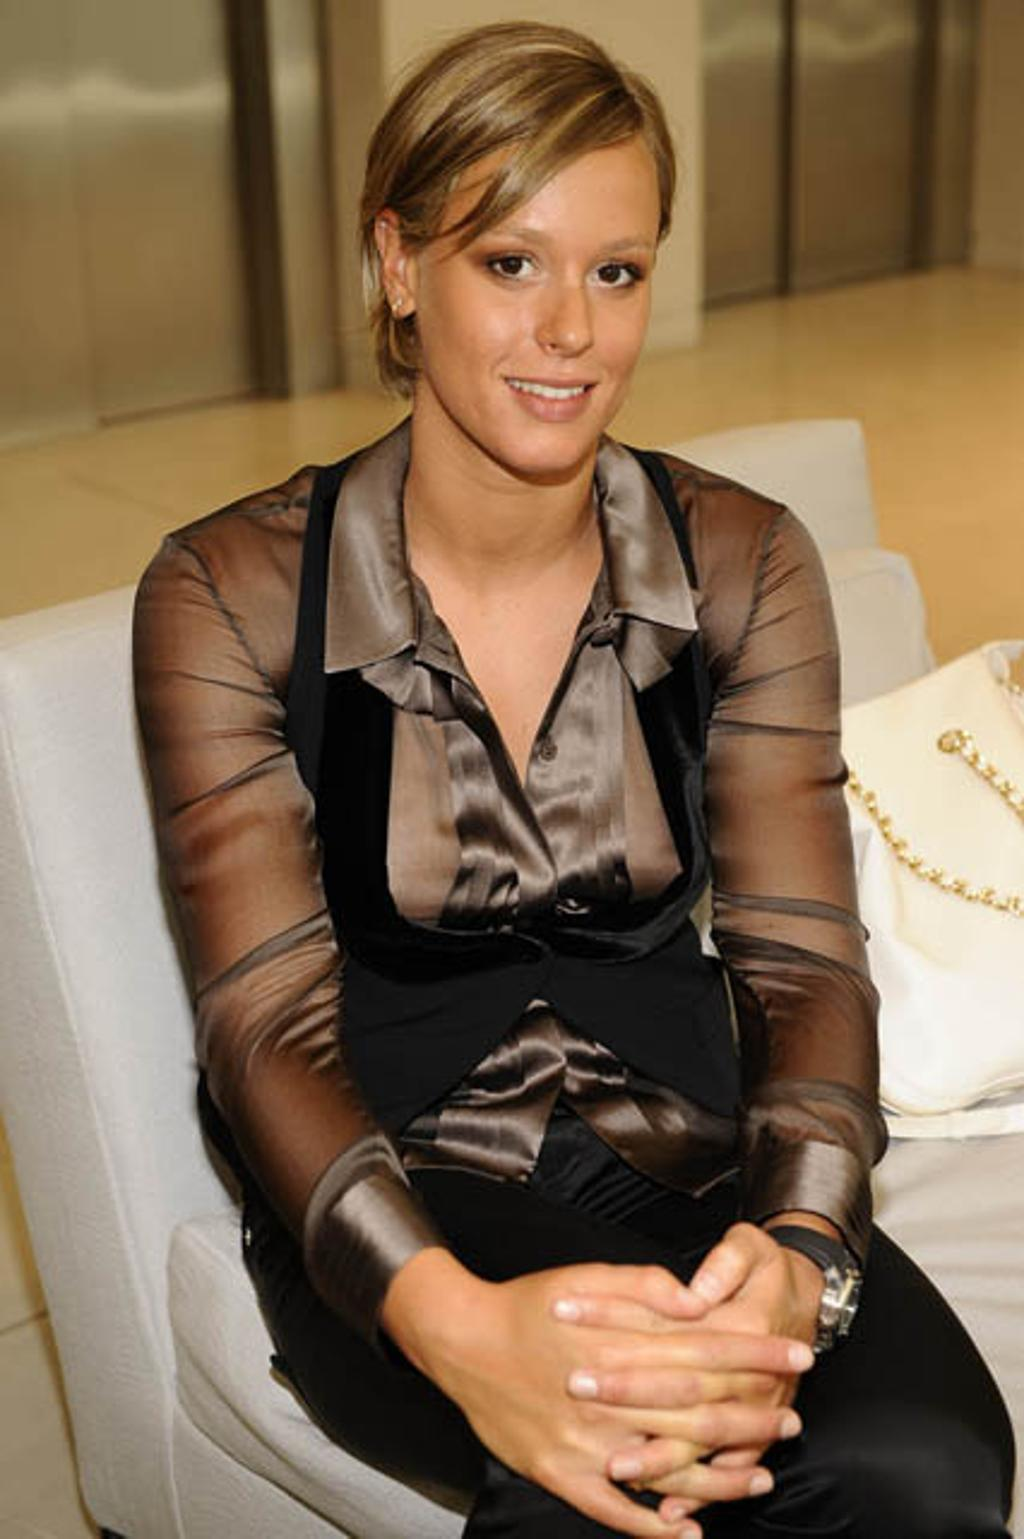face: (435, 138, 654, 471)
